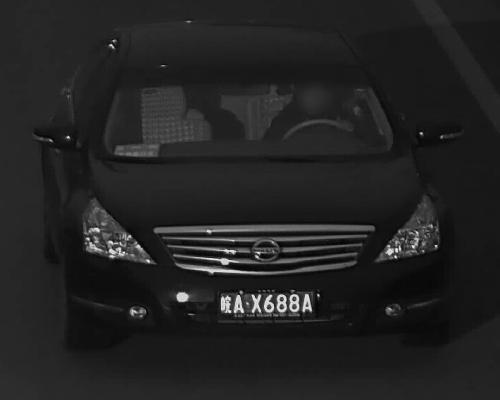Carplate: (213, 286, 321, 323)
